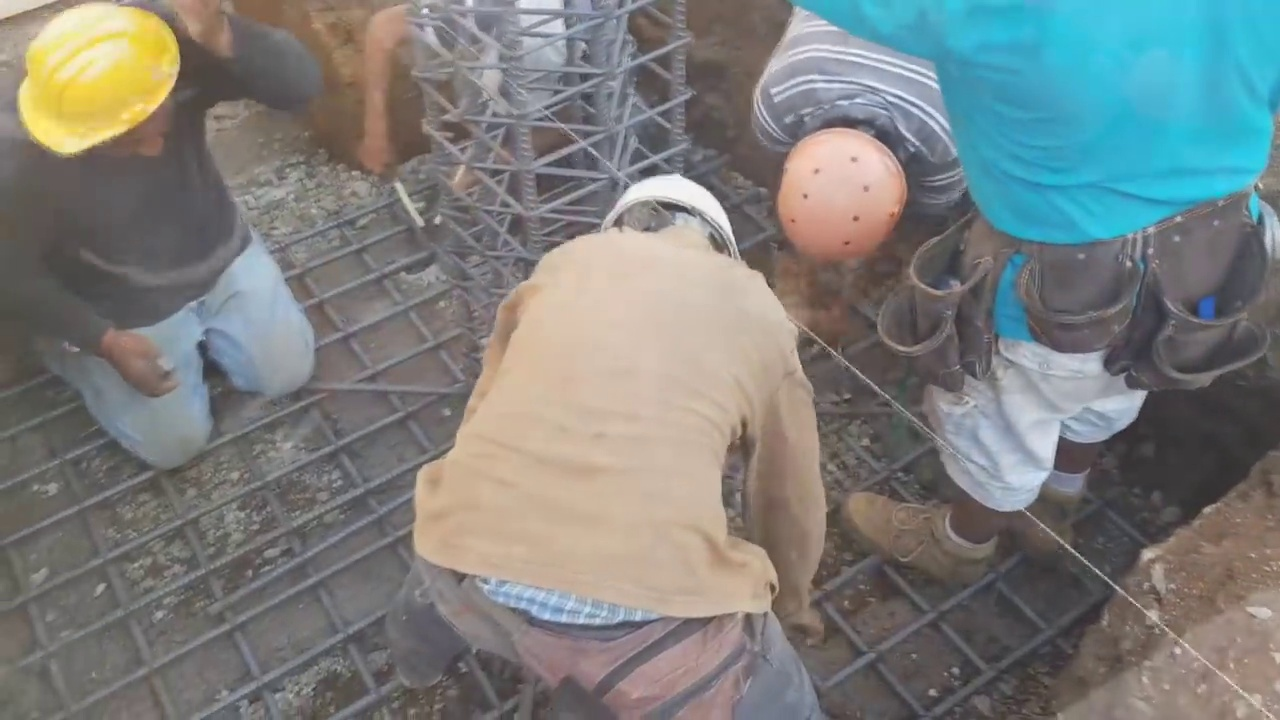helmet: (14, 5, 175, 159), (780, 129, 909, 266), (607, 178, 748, 260)
helmet-on: (13, 3, 201, 186), (780, 106, 922, 269), (591, 174, 752, 279)
person: (843, 0, 1280, 588), (386, 171, 835, 720), (0, 0, 315, 473), (749, 5, 963, 342), (345, 0, 627, 182)
